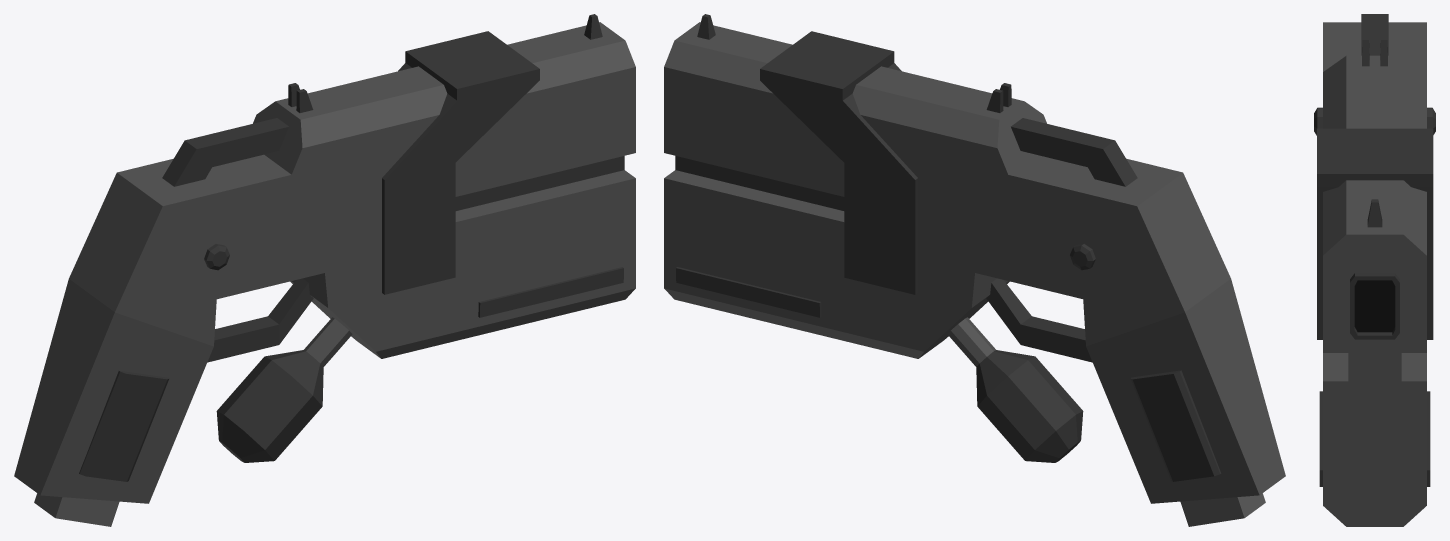
File: Handgun_C_V1.FBX
3 renders of one model, left to right at view 1: azimuth 30°, elevation 25°; view 2: azimuth 150°, elevation 25°; view 3: azimuth 270°, elevation 25°, orthographic. The views are drawn at different scales.
Parts seen in each view (by area): view 1: Handgun_C_V1, Magazine; view 2: Handgun_C_V1, Magazine; view 3: Handgun_C_V1.
Part boxes in pixels (bbox=[...]): Handgun_C_V1: bbox=[14, 14, 635, 503]; Magazine: bbox=[34, 493, 119, 526]; Handgun_C_V1: bbox=[664, 14, 1285, 503]; Magazine: bbox=[1180, 493, 1265, 526]; Handgun_C_V1: bbox=[1314, 14, 1435, 526].
Size of the model in its own units: 141 by 87.1 by 22.22.
